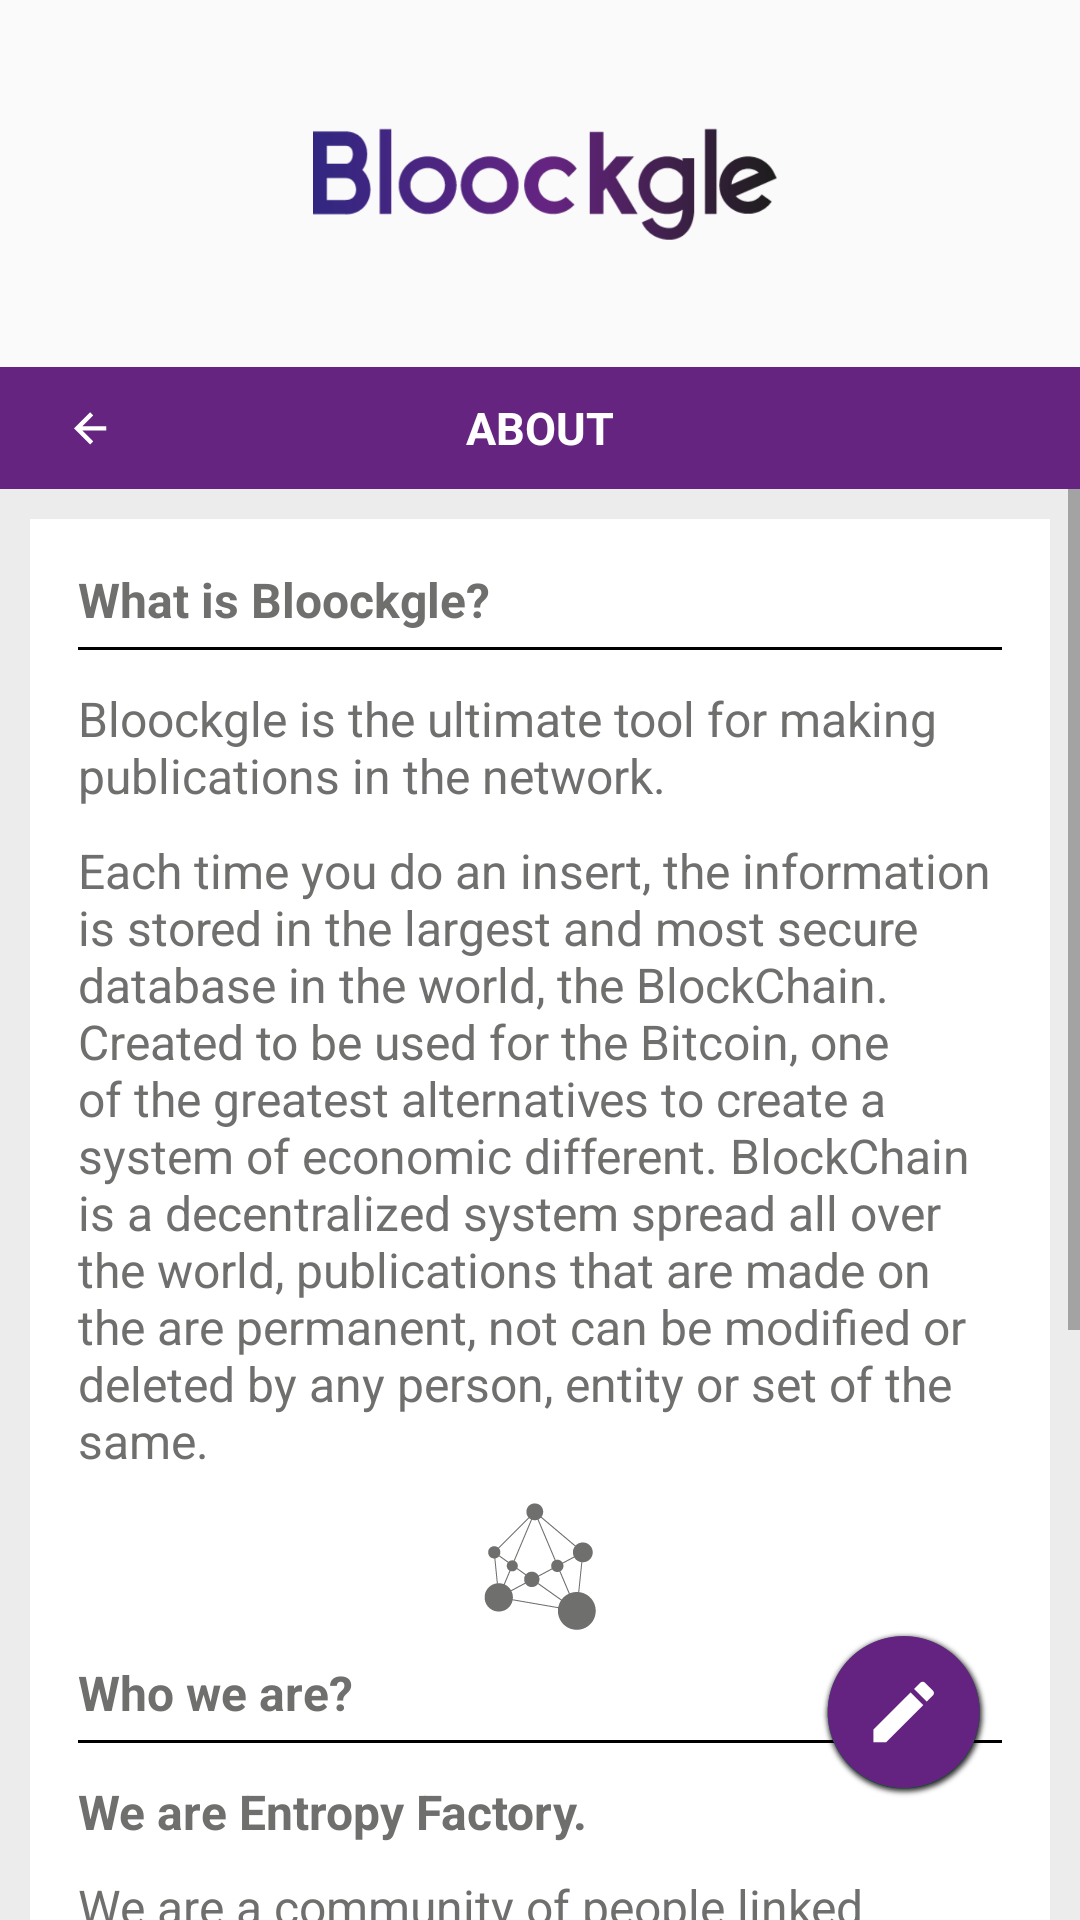

Named icons in this screenshot (1080*1920) and their bounding boxes, (x1=x1, y1=y1, x2=x2, y2=y2):
arrow back: (x1=0, y1=367, x2=180, y2=489)
network aout: (x1=484, y1=1503, x2=596, y2=1630)
